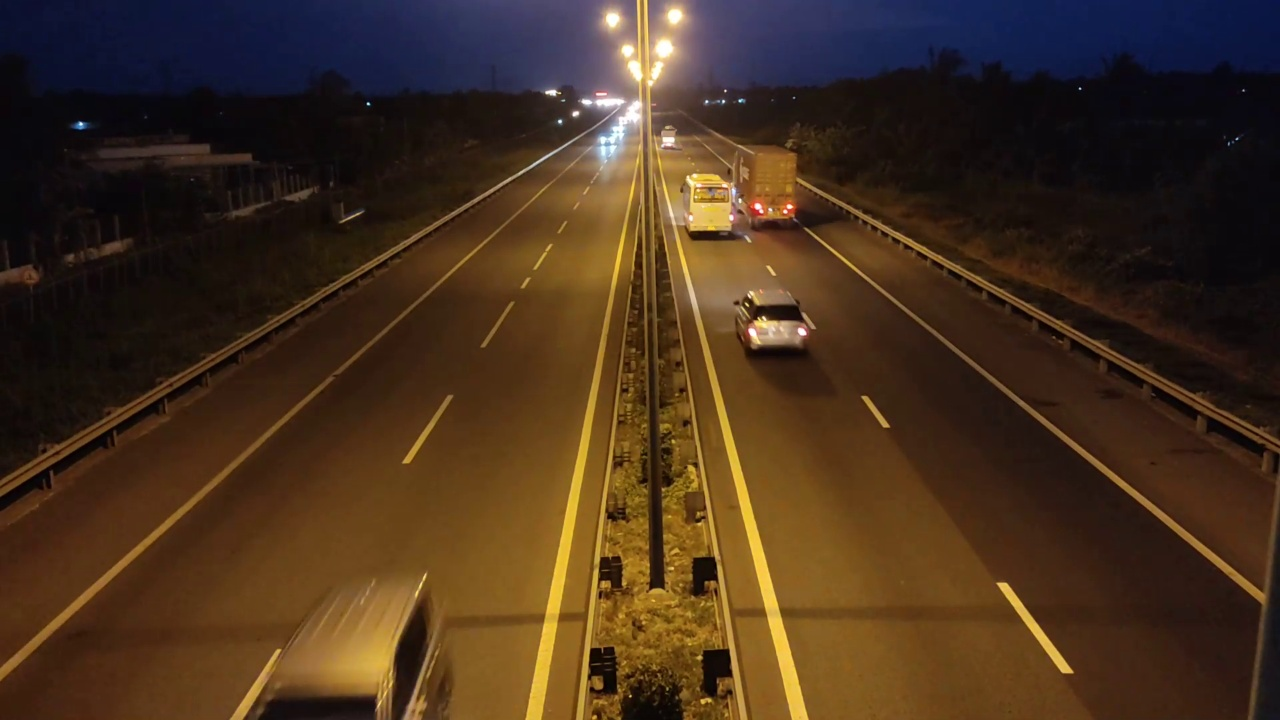bus: (680, 174, 734, 239)
car: (733, 288, 817, 356)
truck: (730, 141, 798, 229)
